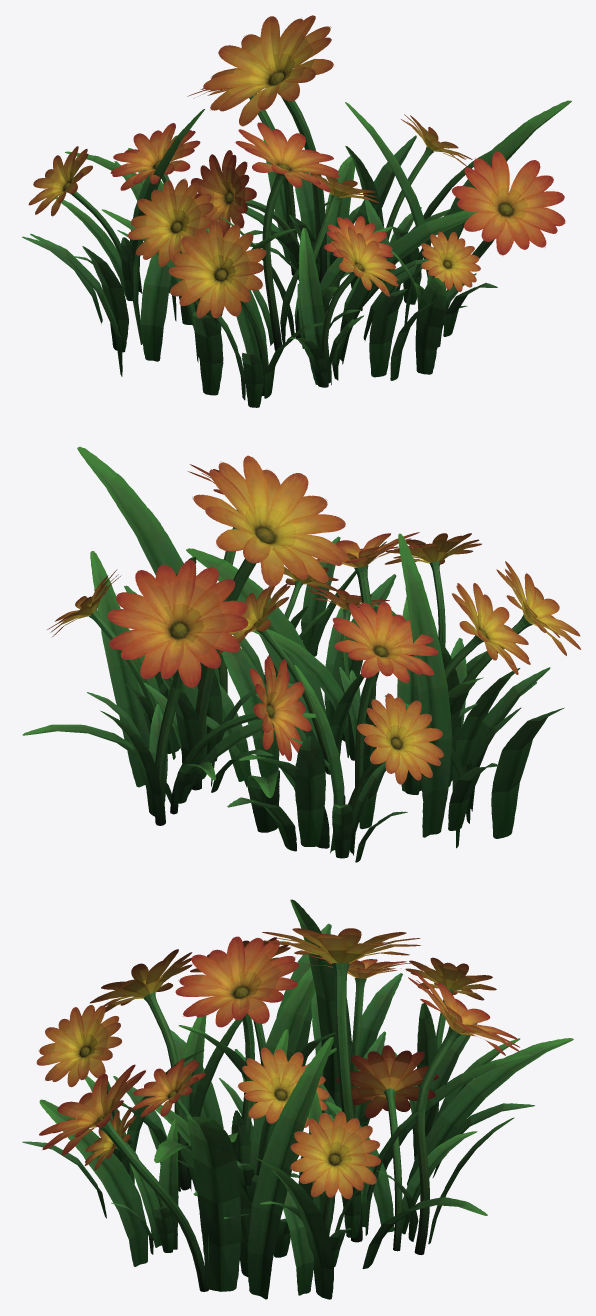
File: P_Flowerbosiju_03.obj
The picture shows the model from 3 angles, top to bottom: view 1: azimuth 30°, elevation 25°; view 2: azimuth 150°, elevation 25°; view 3: azimuth 270°, elevation 25°; orthographic projection. The views are drawn at different scales.
Bounding box in the file's own units: 0.9636 × 0.5559 × 0.851.
Materials: 1 (1 with a texture image).
